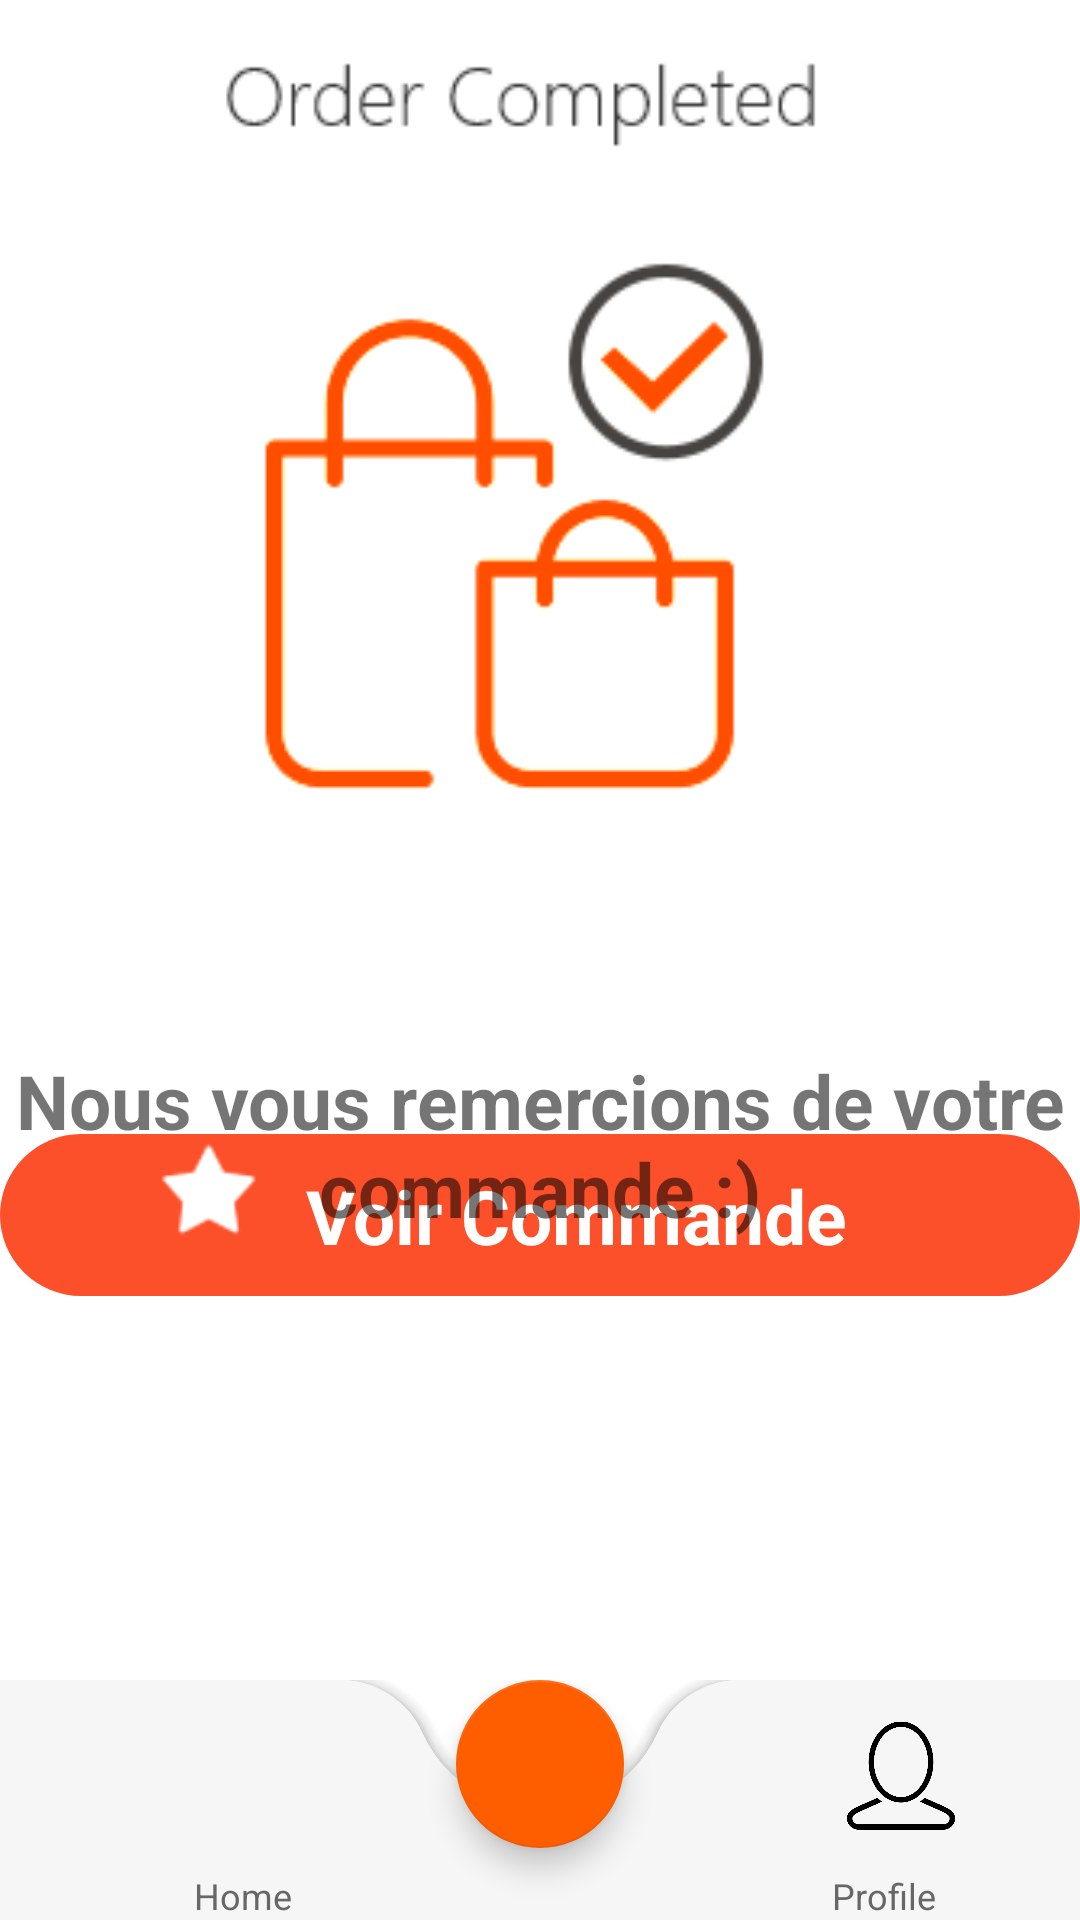

Icons on this 1080 x 1920 Android screen, each with the point to tap as (x,y):
star on: (209,1189)
utilisateur: (901,1776)
